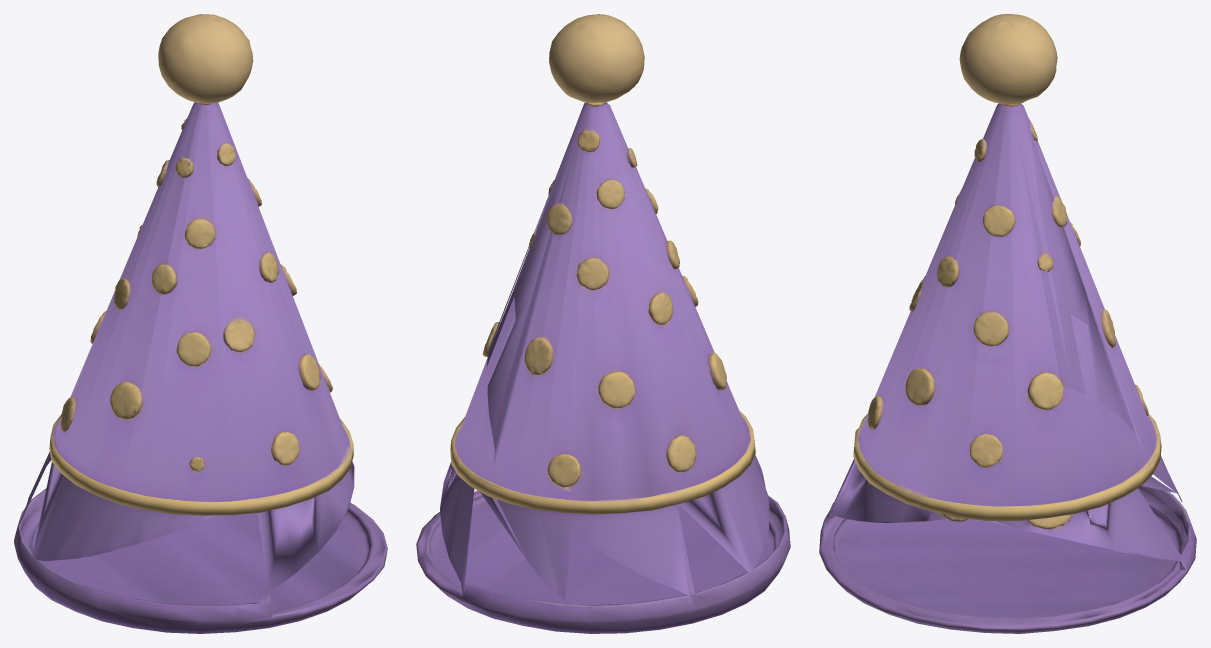
The model's file is r33-partyhat.glb.
3 renders of one model, left to right at view 1: azimuth 30°, elevation 25°; view 2: azimuth 150°, elevation 25°; view 3: azimuth 270°, elevation 25°, orthographic.
Parts seen in each view (by area): view 1: tripo_node_390db59d-f9b2-4caf-8ecc-120d8b3bc63a; view 2: tripo_node_390db59d-f9b2-4caf-8ecc-120d8b3bc63a; view 3: tripo_node_390db59d-f9b2-4caf-8ecc-120d8b3bc63a.
Boxes of the visible parts, x1,y1,x2,y2 form: tripo_node_390db59d-f9b2-4caf-8ecc-120d8b3bc63a: [14, 14, 387, 633]; tripo_node_390db59d-f9b2-4caf-8ecc-120d8b3bc63a: [416, 14, 790, 633]; tripo_node_390db59d-f9b2-4caf-8ecc-120d8b3bc63a: [819, 14, 1196, 633].
Size of the model in its own units: 0.627 by 0.998 by 0.6309.
1 material, 1 textured.
